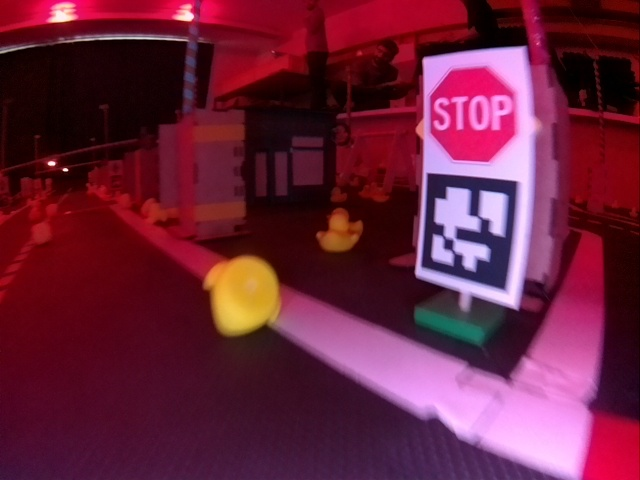Duckie: (203, 254, 281, 338), (317, 214, 360, 251), (32, 224, 49, 243)
QR code: (422, 177, 517, 290)
Stop sign: (429, 67, 517, 166)
